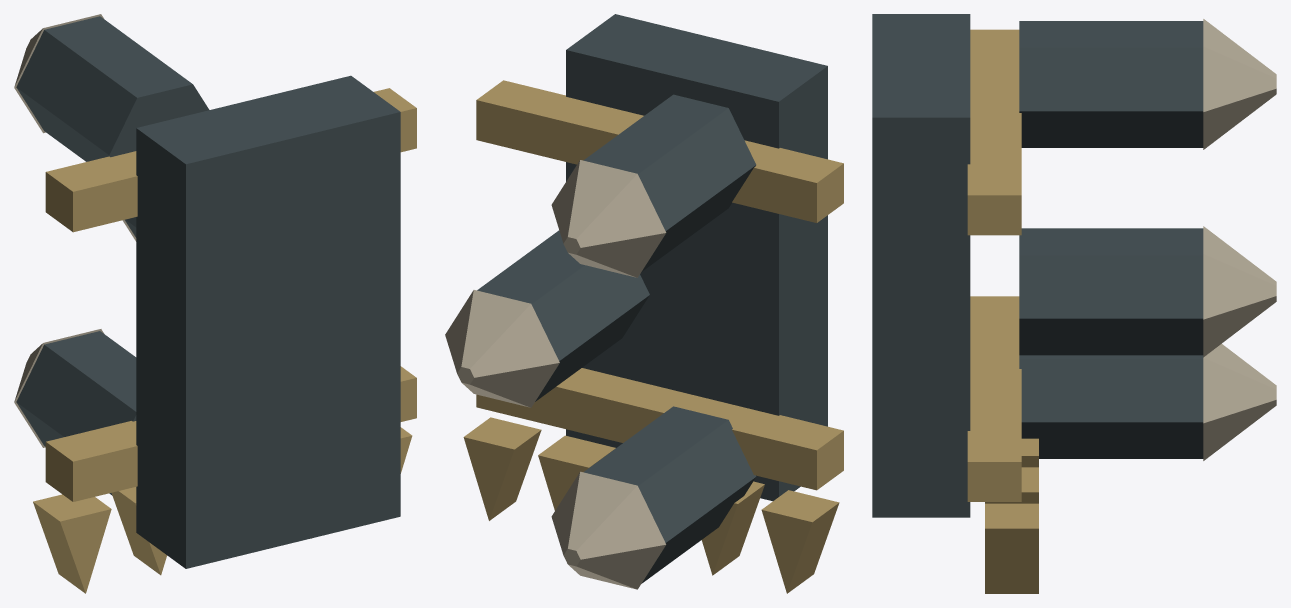
The model's file is Arsenal_RivetBreakerEdge.fbx.
The picture shows the model from 3 angles, left to right: view 1: azimuth 30°, elevation 25°; view 2: azimuth 150°, elevation 25°; view 3: azimuth 270°, elevation 25°; orthographic projection.
Parts seen in each view (by area): view 1: Arsenal_RivetBreakerEdge; view 2: Arsenal_RivetBreakerEdge; view 3: Arsenal_RivetBreakerEdge.
Part boxes in pixels (x1,y1,x2,y2): Arsenal_RivetBreakerEdge: [14, 14, 416, 593]; Arsenal_RivetBreakerEdge: [445, 14, 843, 593]; Arsenal_RivetBreakerEdge: [872, 14, 1276, 593].
Bounding box in the file's own units: 0.164 × 0.2084 × 0.165.
